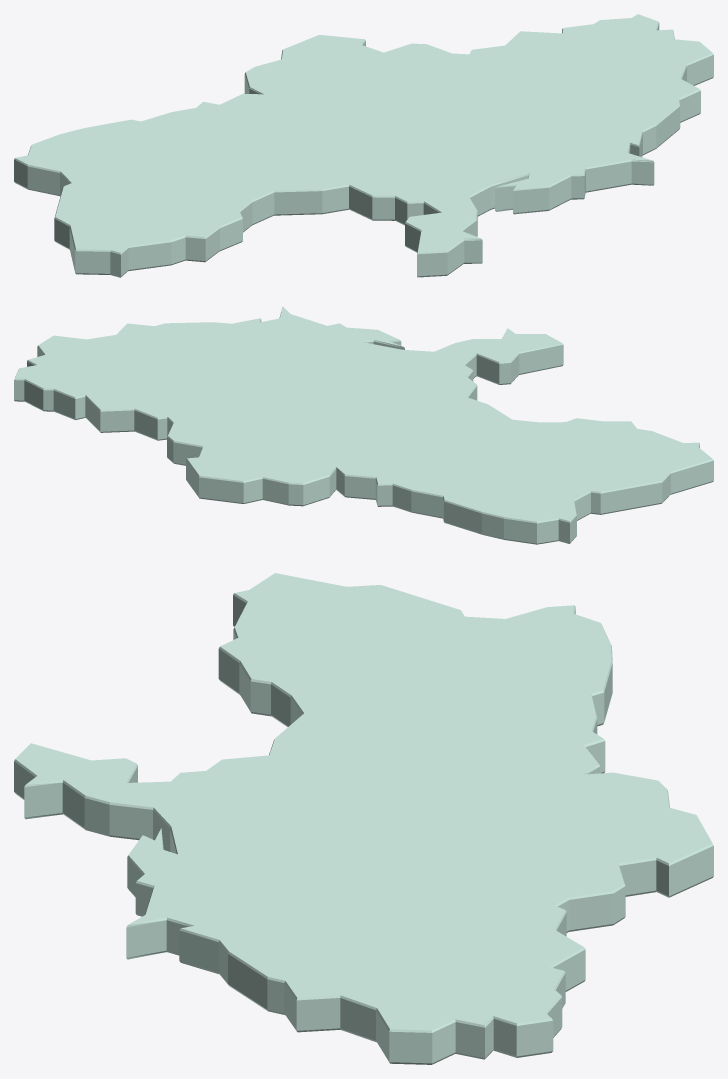
Rendered from UKR.glb.
3 renders of one model, top to bottom at view 1: azimuth 30°, elevation 25°; view 2: azimuth 150°, elevation 25°; view 3: azimuth 270°, elevation 25°, orthographic. The views are drawn at different scales.
Bounding box in the file's own units: 1.94 × 0.068 × 1.25.
